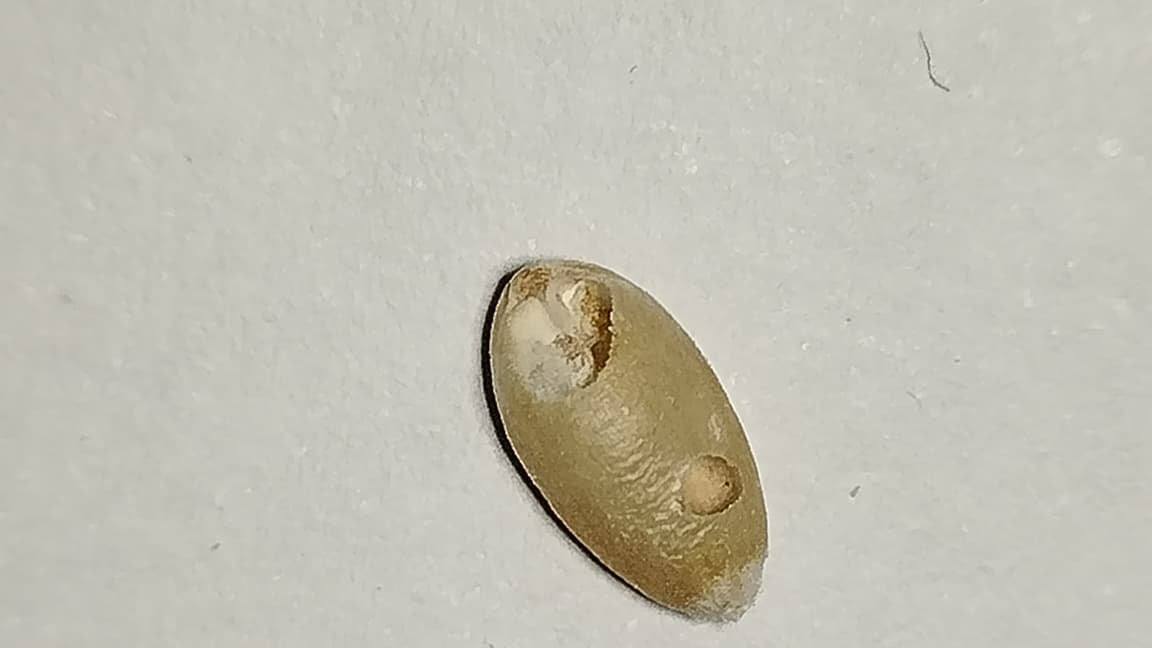damage: (490, 260, 767, 617)
insectdamage: (481, 259, 633, 405), (677, 452, 765, 518)
